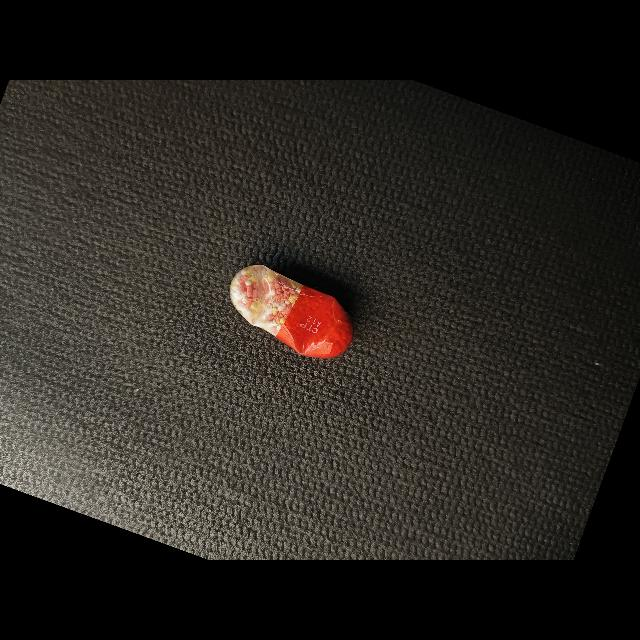Defective Capsule: (230, 265, 353, 358)
